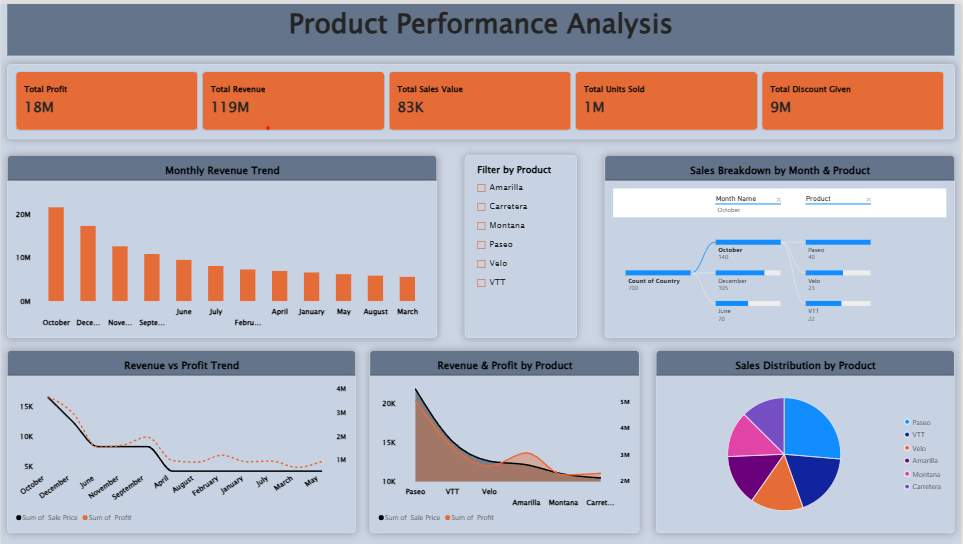

Layout of this report page (visuals, bound fields, positions):
{"tool":"powerbi","page":{"name":"Project_1","canvas":[1920,1080],"ordinal":0},"visuals":[{"type":"lineChart","title":"Revenue vs Profit Trend","fields":{"Category":["Financials. Month Name "],"Y":["Sum(Financials. Sale Price )"],"Y2":["Sum(Financials. Profit )"]},"box":[12.7,693.1,696.7,365.6],"z":0},{"type":"textbox","box":[12.7,0,1894.7,103.2],"z":1000},{"type":"columnChart","title":"Monthly Revenue Trend","fields":{"Category":["Financials. Month Name "],"Y":["Sum(Financials.  Sales )"]},"box":[12.7,302.2,859.6,365.6],"z":2000},{"type":"cardVisual","fields":{"Data":["Sum(Financials. Profit )","Sum(Financials.  Sales )","Sum(Financials. Sale Price )","Sum(Financials. Units Sold )","Sum(Financials. Discounts )"]},"box":[12.7,121.2,1895,150],"z":3000},{"type":"pieChart","title":"Sales Distribution by Product","fields":{"Category":["Financials. Product "],"Y":["Sum(Financials. Sale Price )"]},"box":[1310.2,693.1,597.2,365.6],"z":4000},{"type":"decompositionTreeVisual","title":"Sales Breakdown by Month & Product","fields":{"Analyze":["CountNonNull(Financials.Country)"],"ExplainBy":["Financials. Month Name ","Financials. Product "]},"box":[1207,302.2,700.3,365.6],"z":5000},{"type":"areaChart","title":"Revenue & Profit by Product","fields":{"Category":["Financials. Product "],"Y":["Sum(Financials. Sale Price )"],"Y2":["Sum(Financials. Profit )"]},"box":[736.5,693.1,539.3,365.6],"z":6000},{"type":"slicer","fields":{"Values":["Financials. Product "]},"box":[928.4,302.2,224.4,365.6],"z":7000}]}

Visuals, with their boxes in screenshot pixels (x1, y1, x2, y2), scaled from the page's 1920x1080 canvas onto the 963x544 screenshot:
"Revenue vs Profit Trend" lineChart: crop(6, 349, 356, 533)
textbox: crop(6, 0, 957, 52)
"Monthly Revenue Trend" columnChart: crop(6, 152, 438, 336)
cardVisual - Sum(Financials. Profit ) x Sum(Financials.  Sales ): crop(6, 61, 957, 137)
"Sales Distribution by Product" pieChart: crop(657, 349, 957, 533)
"Sales Breakdown by Month & Product" decompositionTreeVisual: crop(605, 152, 957, 336)
"Revenue & Profit by Product" areaChart: crop(369, 349, 640, 533)
slicer - Financials. Product : crop(466, 152, 578, 336)
